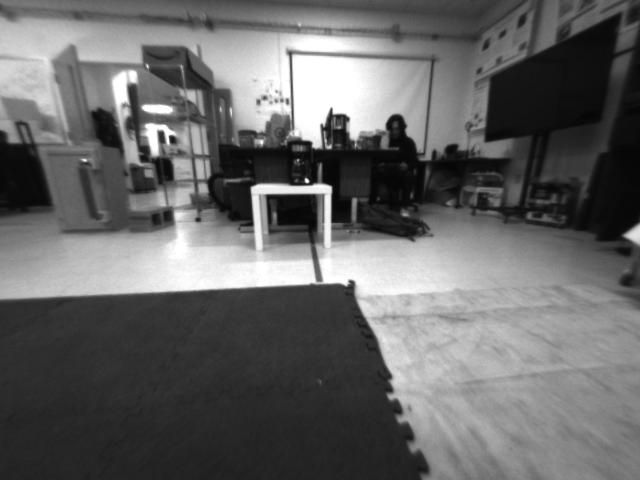coffee_pot: (284, 140, 315, 188)
